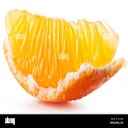orange: (2, 6, 124, 107)
